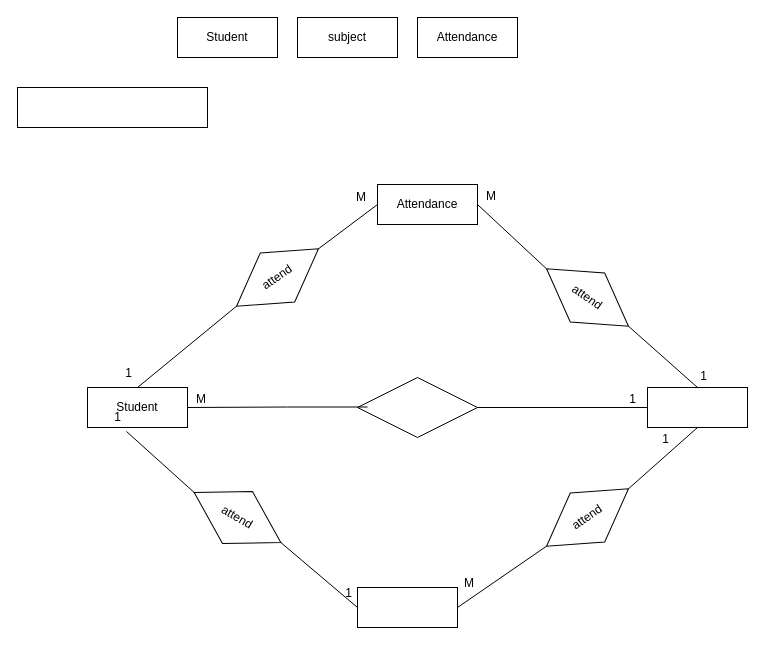
The diagram is 765 pixels wide and 645 high, and some of its shapes have lost their labels. The centre of each missing label's shape, as x and y in pixels:
Course: pixel 697 407
Enroll: pixel 417 407
Marksheet: pixel 407 607
tables Relations: pixel 112 107
